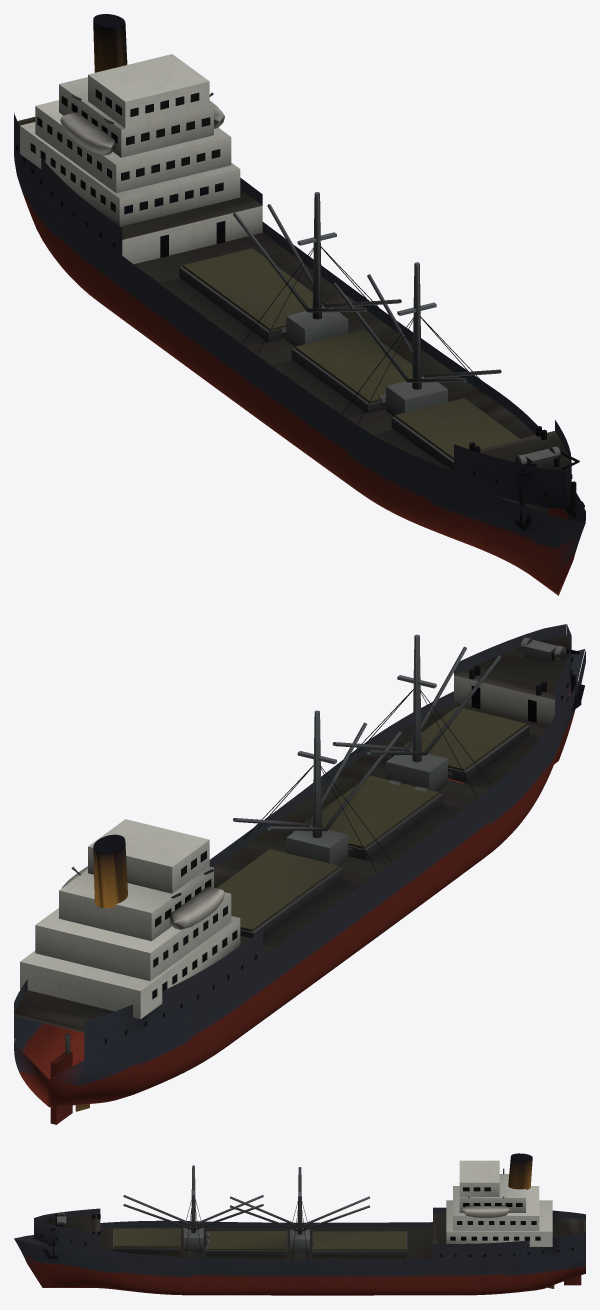
The model's file is model_built.glb.
3 views of the same model, one above another, from view 1: azimuth 30°, elevation 25°; view 2: azimuth 150°, elevation 25°; view 3: azimuth 270°, elevation 25° (orthographic). The views are drawn at different scales.
Visible parts, largest first — view 1: main; view 2: main; view 3: main.
Part boxes in pixels (left/top/right/bottom): main: left=14, top=14, right=585, bottom=595; main: left=14, top=624, right=585, bottom=1124; main: left=14, top=1153, right=585, bottom=1295.
Bounding box in the file's own units: 13.12 × 21.89 × 86.
Materials: 1 (1 with a texture image).
